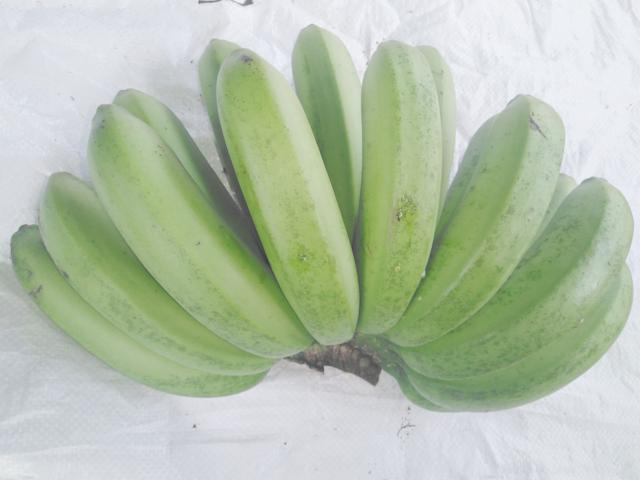unripe: (76, 82, 298, 364), (196, 39, 378, 368), (419, 81, 563, 359), (350, 31, 446, 355), (281, 4, 383, 190)
